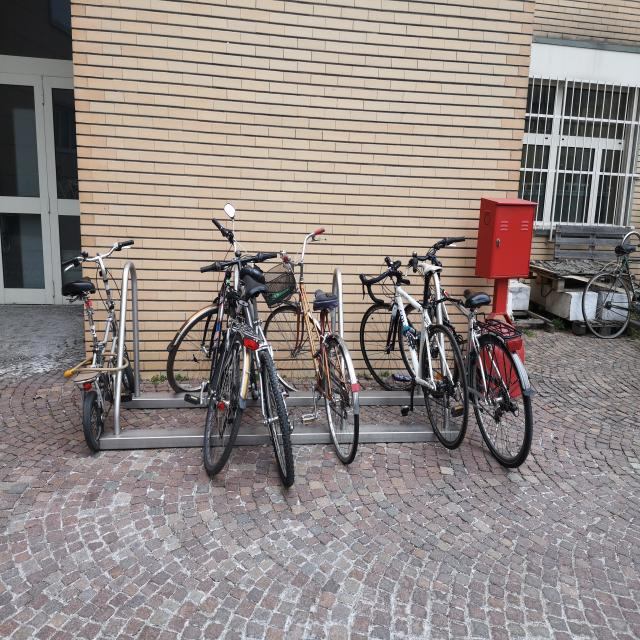Bicycle: (410, 233, 544, 482), (274, 198, 365, 487), (374, 246, 466, 464), (182, 224, 248, 498), (61, 234, 138, 456), (242, 218, 286, 516)
